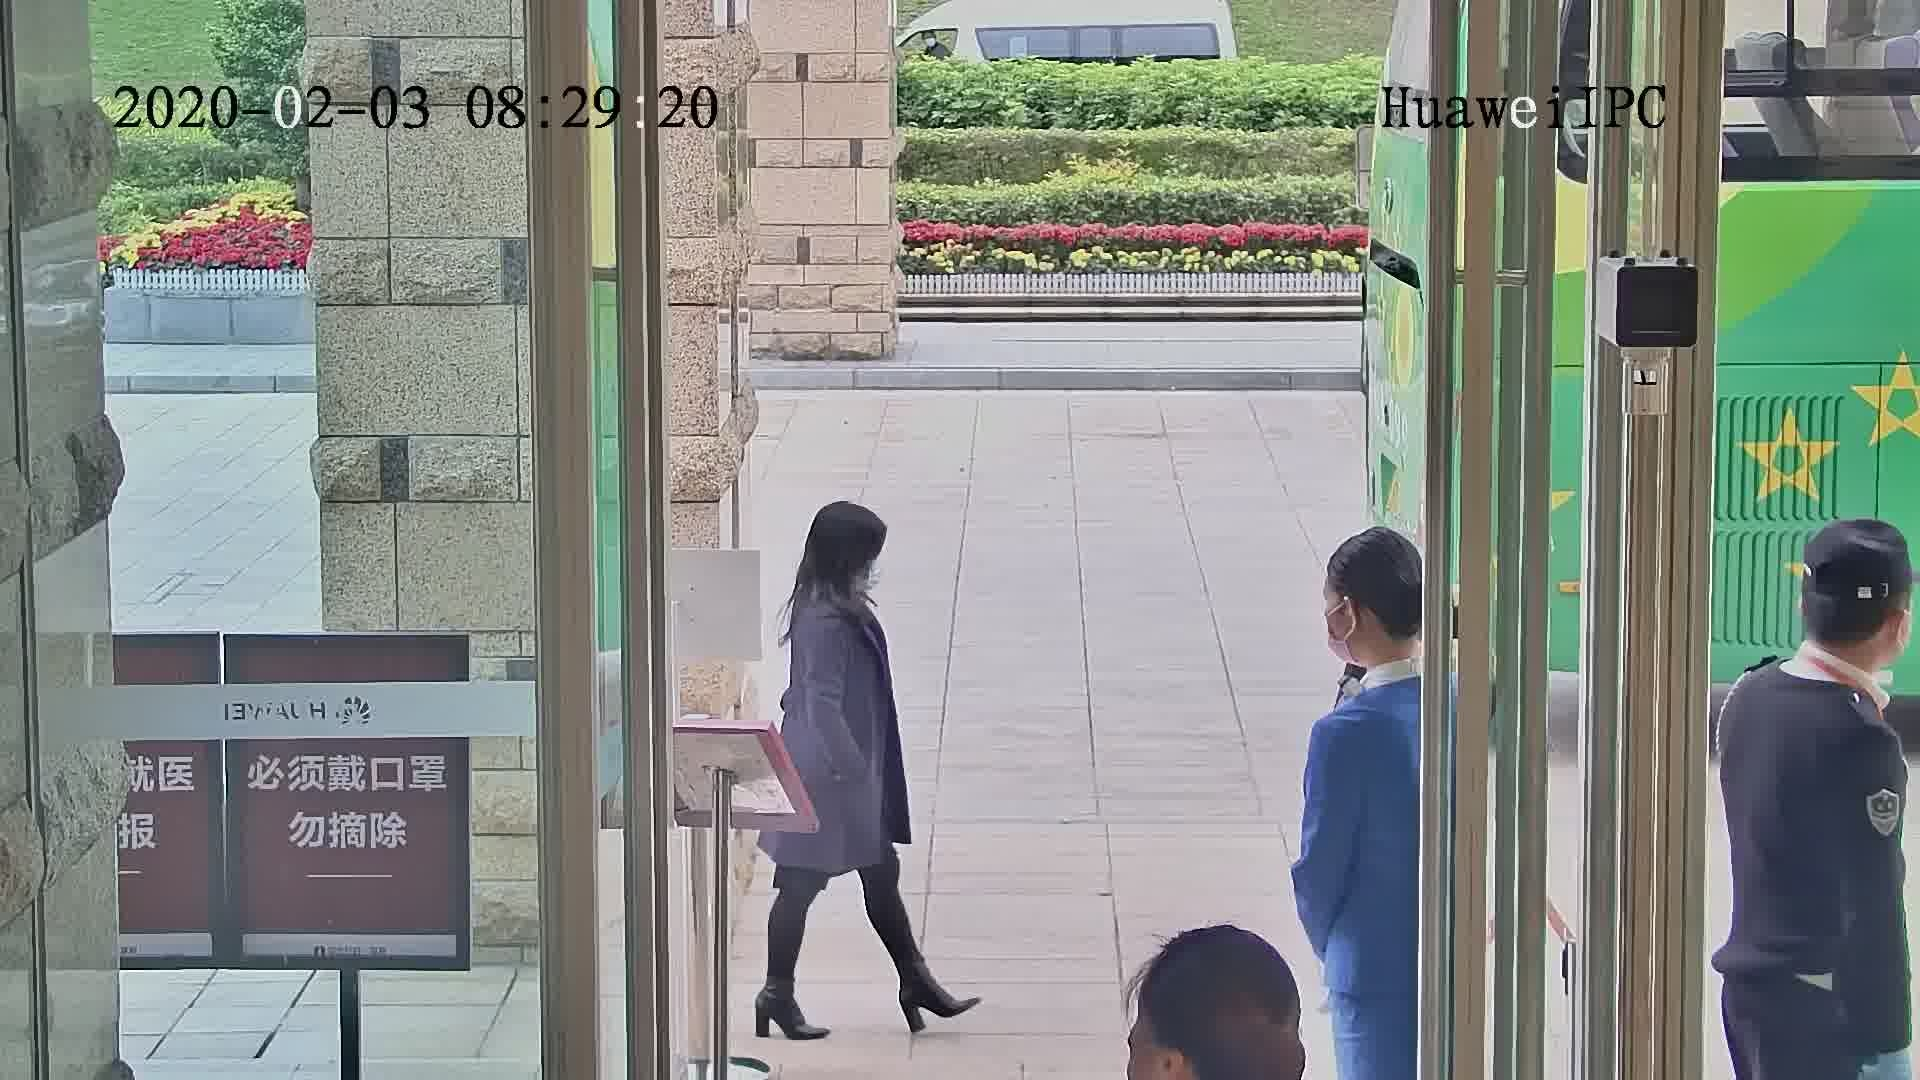person: (1721, 515, 1917, 783), (1300, 519, 1428, 781), (786, 495, 899, 657)
